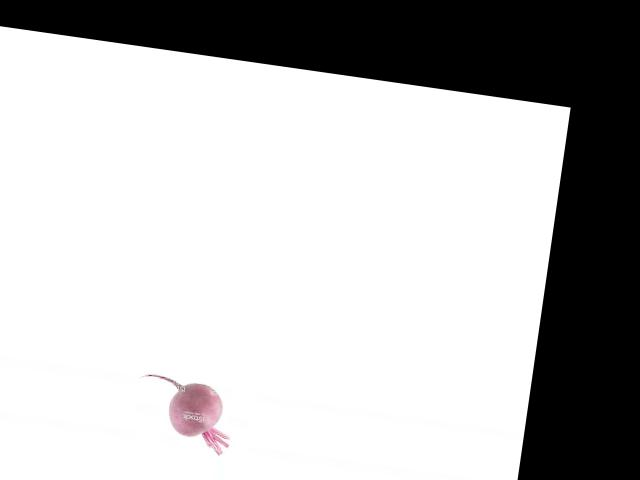beet: (130, 372, 237, 456)
